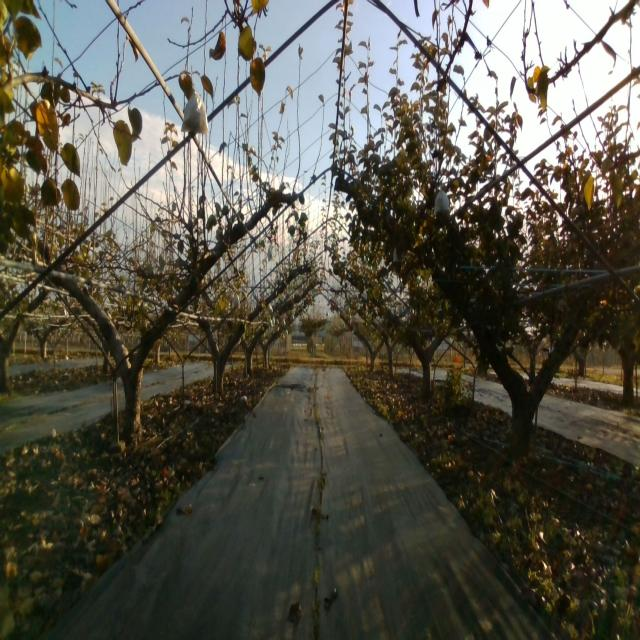pearbags: (181, 89, 209, 136), (433, 188, 452, 216)
